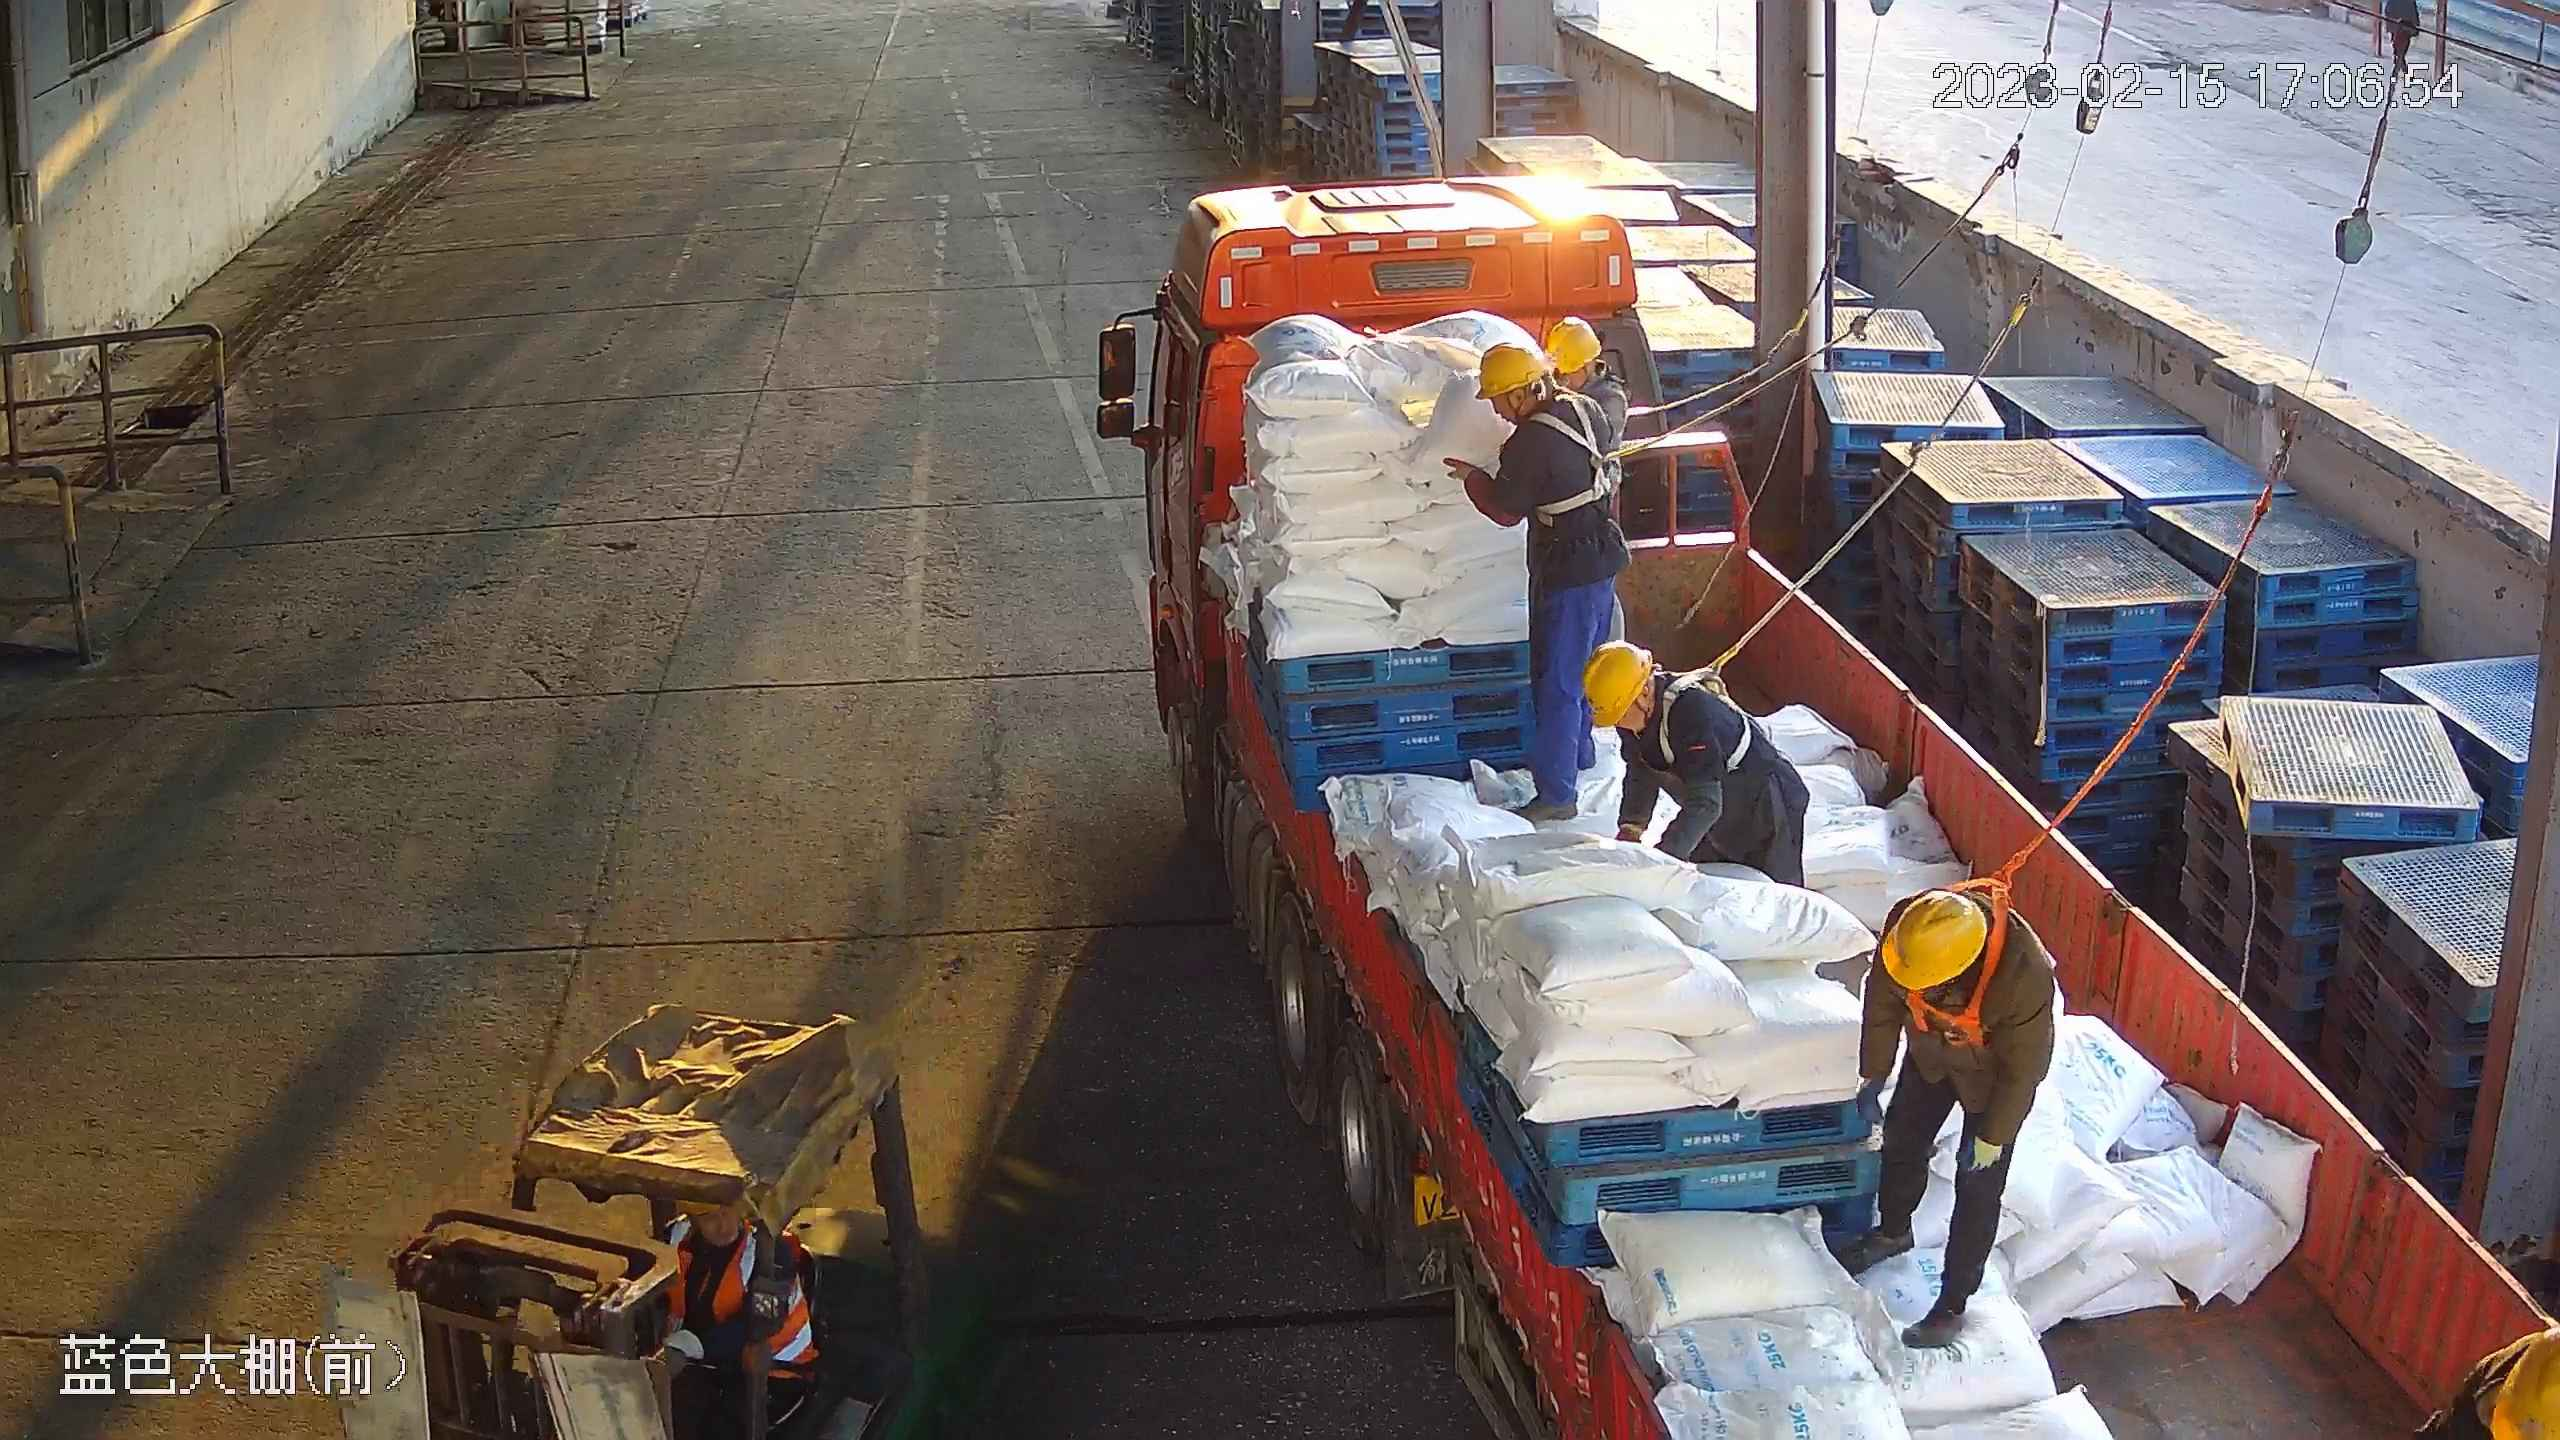belt: (1897, 853, 2042, 1049), (1528, 397, 1647, 520), (1660, 647, 1750, 770)
head: (1869, 880, 2045, 1028), (650, 1202, 805, 1332), (1456, 338, 1603, 467), (1587, 638, 1713, 760)
helmet: (1883, 885, 1988, 987), (2495, 1320, 2560, 1440), (1584, 642, 1657, 729), (1474, 341, 1551, 399), (1547, 315, 1601, 370)
people: (1840, 883, 2058, 1350), (1443, 337, 1635, 822), (1582, 641, 1808, 891)
truck: (1090, 179, 2560, 1440)
